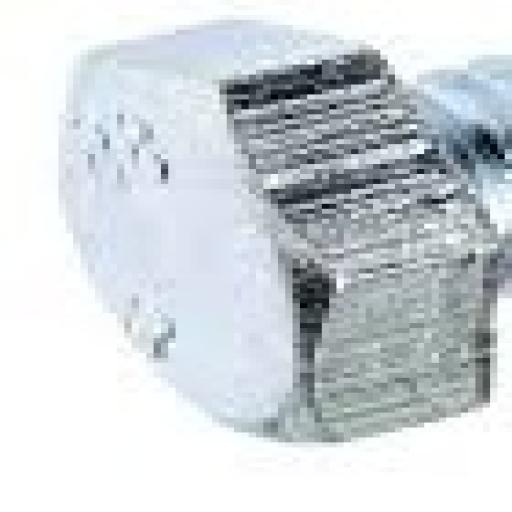Hex-Allen: (0, 2, 502, 479)
